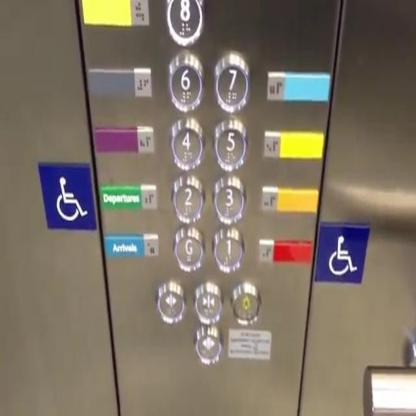1: (212, 223, 245, 272)
2: (170, 174, 206, 226)
3: (212, 172, 246, 224)
4: (169, 115, 204, 172)
5: (212, 113, 247, 172)
6: (166, 49, 204, 112)
7: (212, 50, 249, 113)
8: (165, 0, 204, 46)
CH: (36, 159, 98, 234), (311, 220, 371, 286)
G: (171, 225, 205, 273)
alarm: (230, 280, 262, 325)
close: (193, 280, 223, 323)
open: (194, 323, 224, 365), (156, 280, 185, 323)
